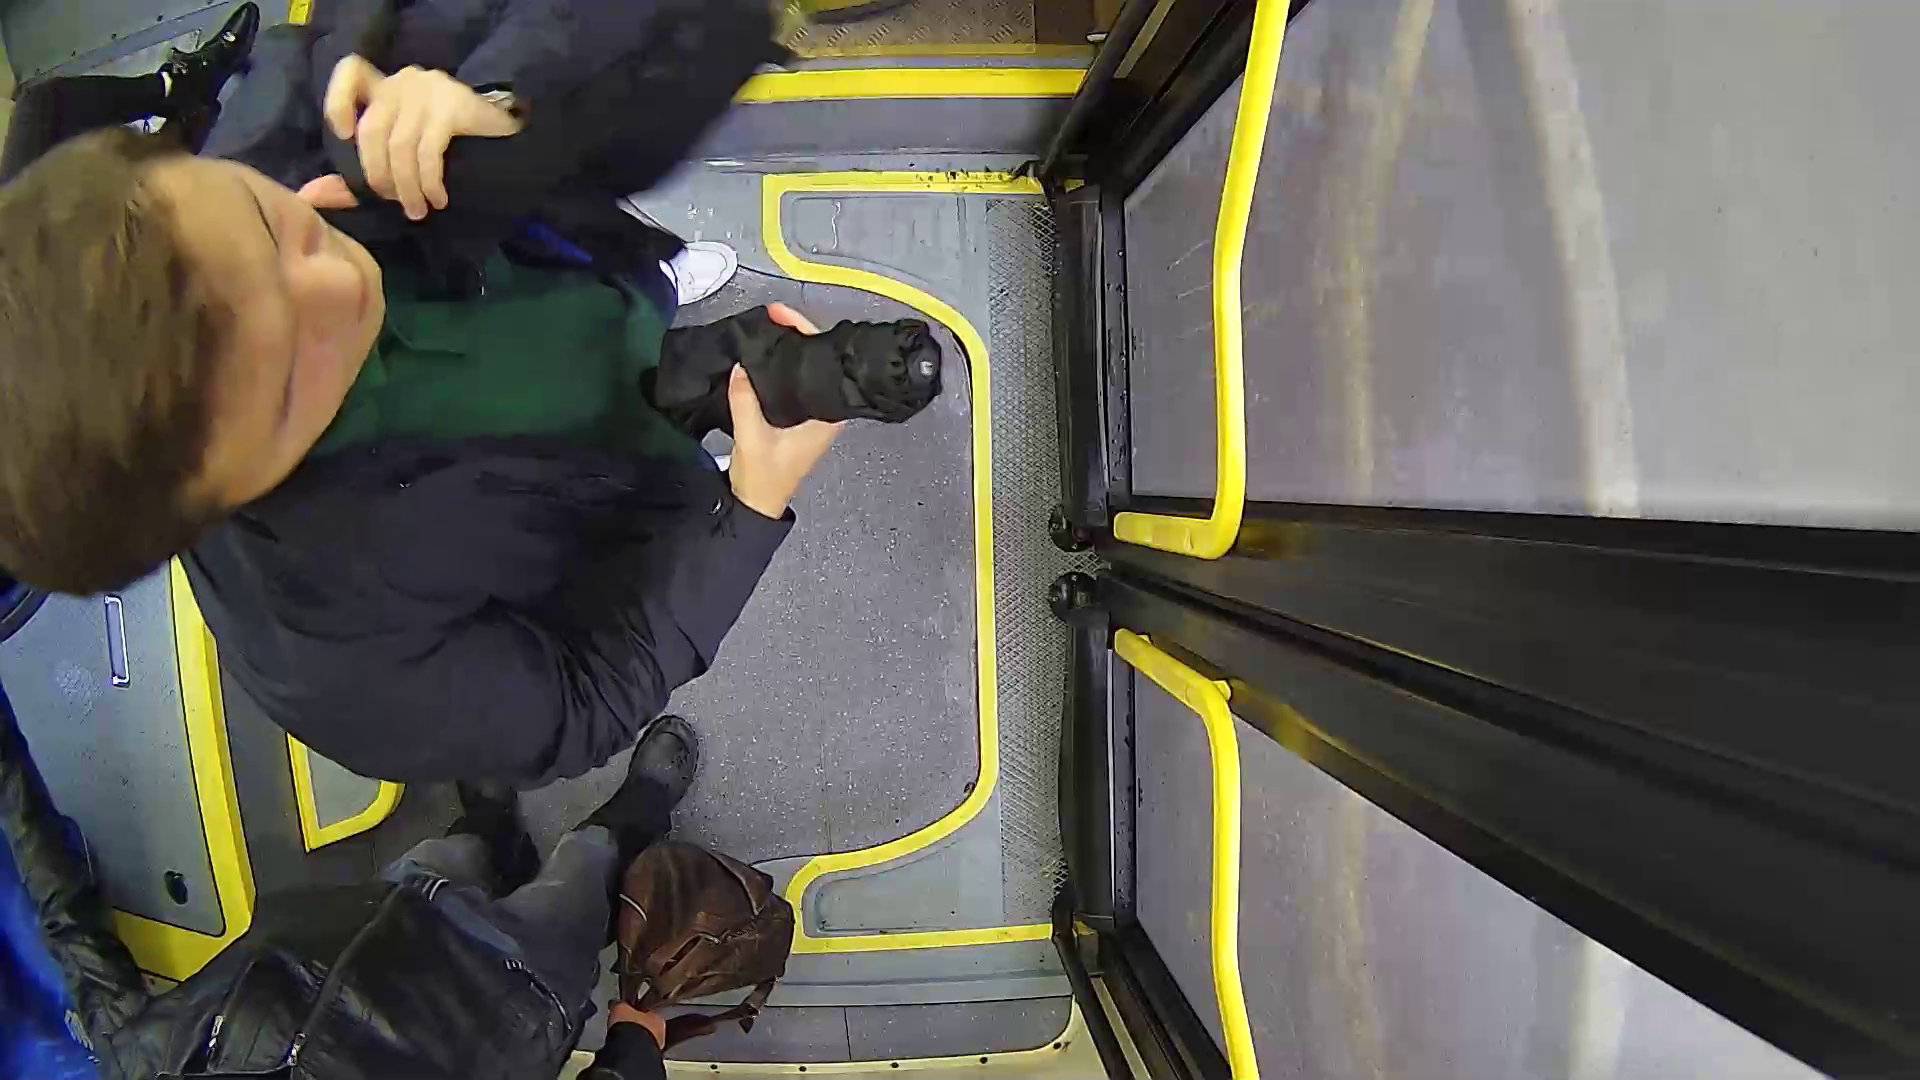person: (37, 77, 942, 729)
